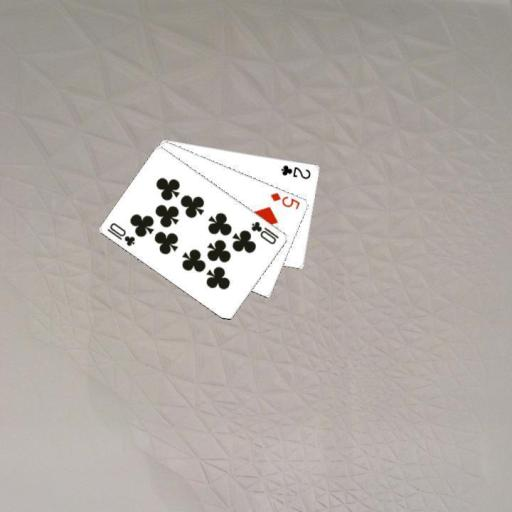card-corner: (248, 218, 281, 246), (104, 219, 137, 247), (268, 189, 302, 211), (278, 161, 312, 180)
